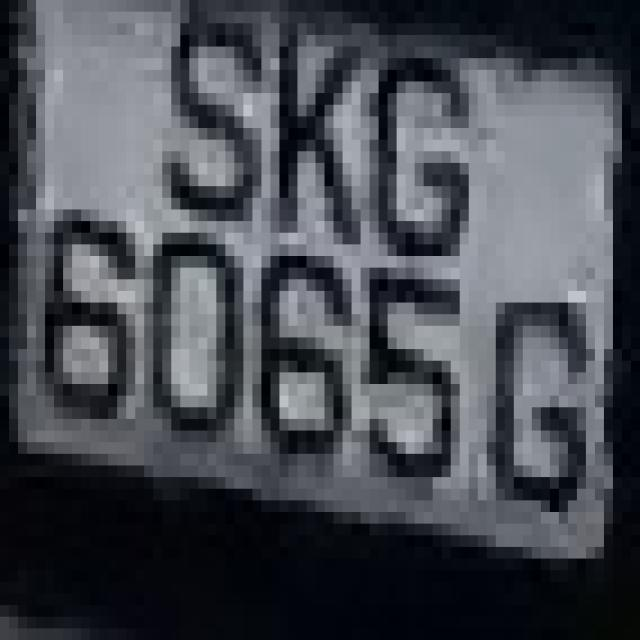0: (144, 198, 243, 465)
5: (360, 198, 460, 535)
6: (252, 198, 352, 477), (36, 163, 135, 430)
G: (342, 23, 487, 280), (469, 268, 586, 535)
K: (244, 23, 360, 280)
S: (144, 35, 270, 233)
